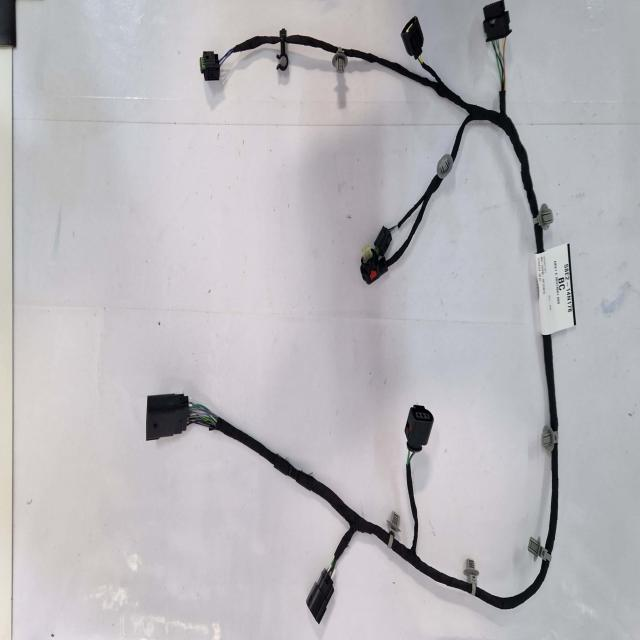Clip: (528, 538, 551, 563), (276, 28, 289, 70), (534, 203, 554, 230), (464, 559, 479, 595), (541, 425, 559, 452), (388, 512, 400, 548), (332, 47, 348, 73), (436, 154, 452, 179)
Connector: (146, 393, 189, 442), (361, 228, 391, 284), (306, 570, 334, 623), (405, 405, 434, 452), (484, 0, 511, 41), (401, 17, 424, 60), (200, 51, 220, 81)
Gape: (488, 28, 516, 72), (189, 396, 218, 434)
Info: (535, 243, 576, 335)
MHEV_N11_Cable: (201, 17, 545, 284), (394, 333, 559, 610), (188, 405, 385, 621), (485, 4, 509, 43)
